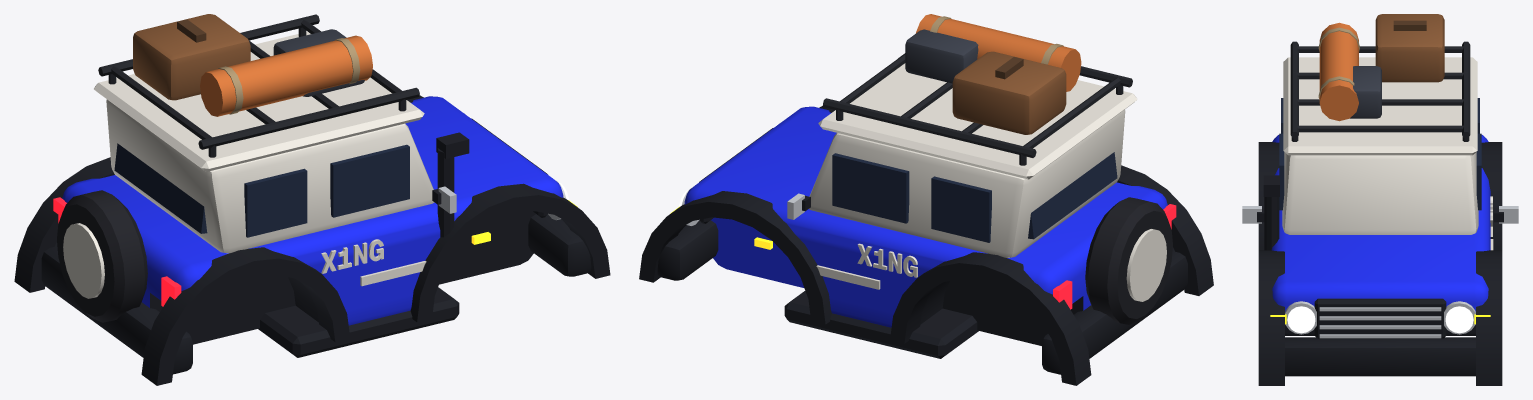
Rendered from car.glb.
The picture shows the model from 3 angles, left to right: view 1: azimuth 30°, elevation 25°; view 2: azimuth 150°, elevation 25°; view 3: azimuth 270°, elevation 25°; orthographic projection. The views are drawn at different scales.
Visible parts, largest first — view 1: car_body, car__tail; view 2: car_body, car__tail; view 3: car_body, car__head.
Boxes of the visible parts, x1,y1,x2,y2 form: car_body: [14, 14, 610, 385]; car__tail: [53, 197, 181, 306]; car_body: [639, 14, 1213, 385]; car__tail: [1053, 204, 1176, 309]; car_body: [1242, 14, 1518, 385]; car__head: [1285, 301, 1475, 334].
Size of the model in its own units: 2.74 by 1.66 by 1.68.
